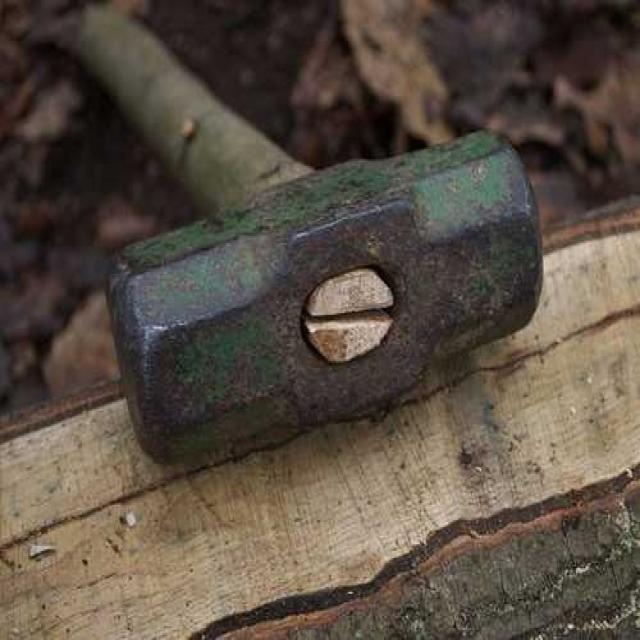hammer: (60, 0, 553, 474)
